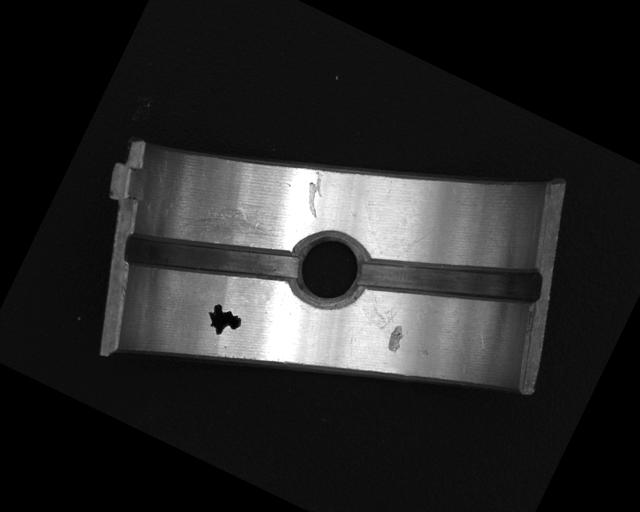blot: (201, 301, 246, 343)
bruise: (383, 323, 409, 355)
gap: (354, 203, 546, 355), (120, 191, 299, 329)
hole: (279, 223, 372, 316)
nick: (296, 168, 336, 219)
scratch: (175, 184, 282, 270)
